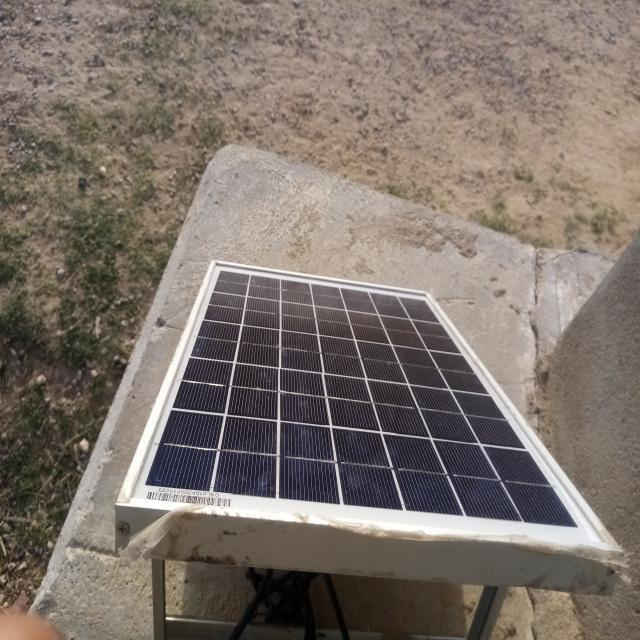no faulty: (117, 263, 618, 558)
